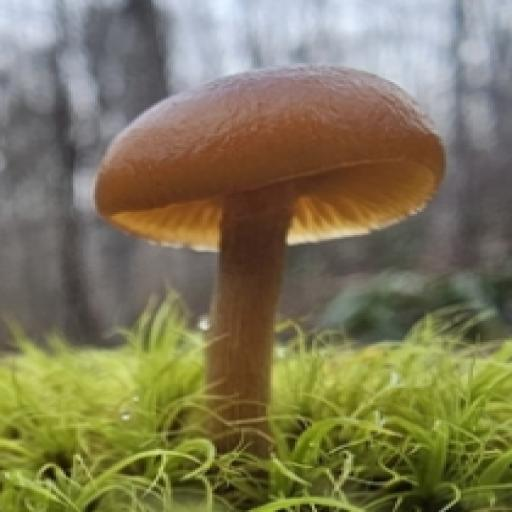mushroom: (68, 52, 460, 381)
